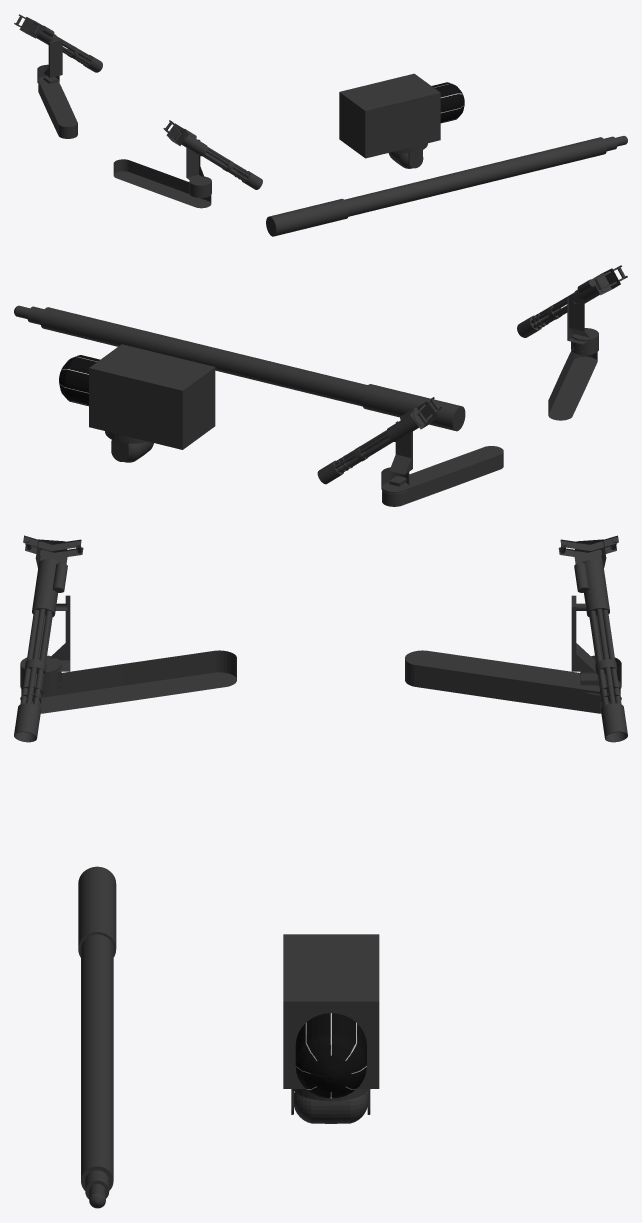
3 renders of one model, top to bottom at view 1: azimuth 30°, elevation 25°; view 2: azimuth 150°, elevation 25°; view 3: azimuth 270°, elevation 25°, orthographic. The views are drawn at different scales.
Visible parts, largest first — view 1: 円柱.002, 立方体.002, 円柱.016, 円柱.004; view 2: 円柱.002, 立方体.002, 円柱.004, 円柱.016, 円柱.001; view 3: 円柱.002, 立方体.002, 円柱.016, 円柱.004.
Part boxes in pixels (left/top/right/bottom): 円柱.002: left=266, top=73, right=606, bottom=236; 立方体.002: left=37, top=39, right=211, bottom=208; 円柱.016: left=163, top=120, right=262, bottom=189; 円柱.004: left=14, top=14, right=102, bottom=72; 円柱.002: left=40, top=307, right=465, bottom=462; 立方体.002: left=381, top=296, right=598, bottom=506; 円柱.004: left=317, top=397, right=441, bottom=484; 円柱.016: left=517, top=265, right=627, bottom=337; 円柱.001: left=14, top=305, right=44, bottom=324; 円柱.002: left=78, top=866, right=379, bottom=1190; 立方体.002: left=20, top=595, right=621, bottom=713; 円柱.016: left=14, top=535, right=83, bottom=742; 円柱.004: left=558, top=535, right=627, bottom=742.
Bounding box in the file's own units: 4.62 × 1.55 × 2.79.
Materials: 8 (1 with a texture image).
